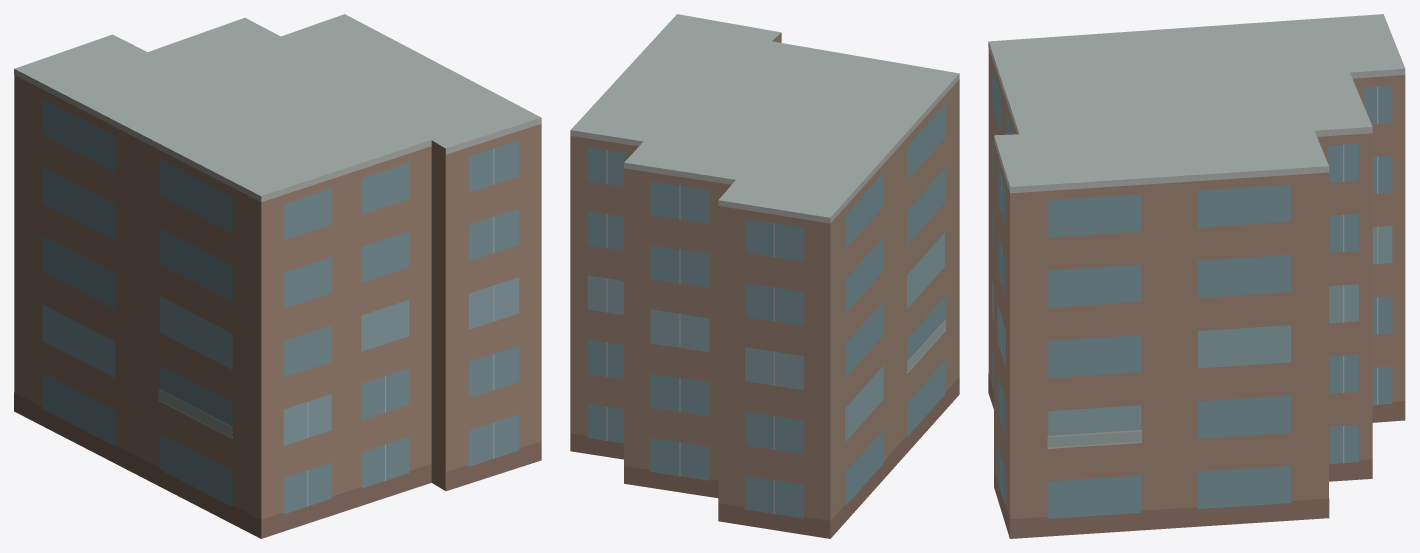
The model's file is survey-upis-32843676.glb.
The picture shows the model from 3 angles, left to right: view 1: azimuth 30°, elevation 25°; view 2: azimuth 150°, elevation 25°; view 3: azimuth 270°, elevation 25°; orthographic projection. The views are drawn at different scales.
Parts seen in each view (by area): view 1: survey-upis-32843676.tmp; view 2: survey-upis-32843676.tmp; view 3: survey-upis-32843676.tmp.
Part boxes in pixels (x1=…): survey-upis-32843676.tmp: x1=14, y1=14, x2=541, y2=538; survey-upis-32843676.tmp: x1=570, y1=14, x2=959, y2=538; survey-upis-32843676.tmp: x1=988, y1=14, x2=1405, y2=538.
Size of the model in its own units: 14.58 by 13.8 by 14.83.
